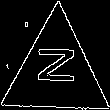N_W: (33, 51, 79, 93)
